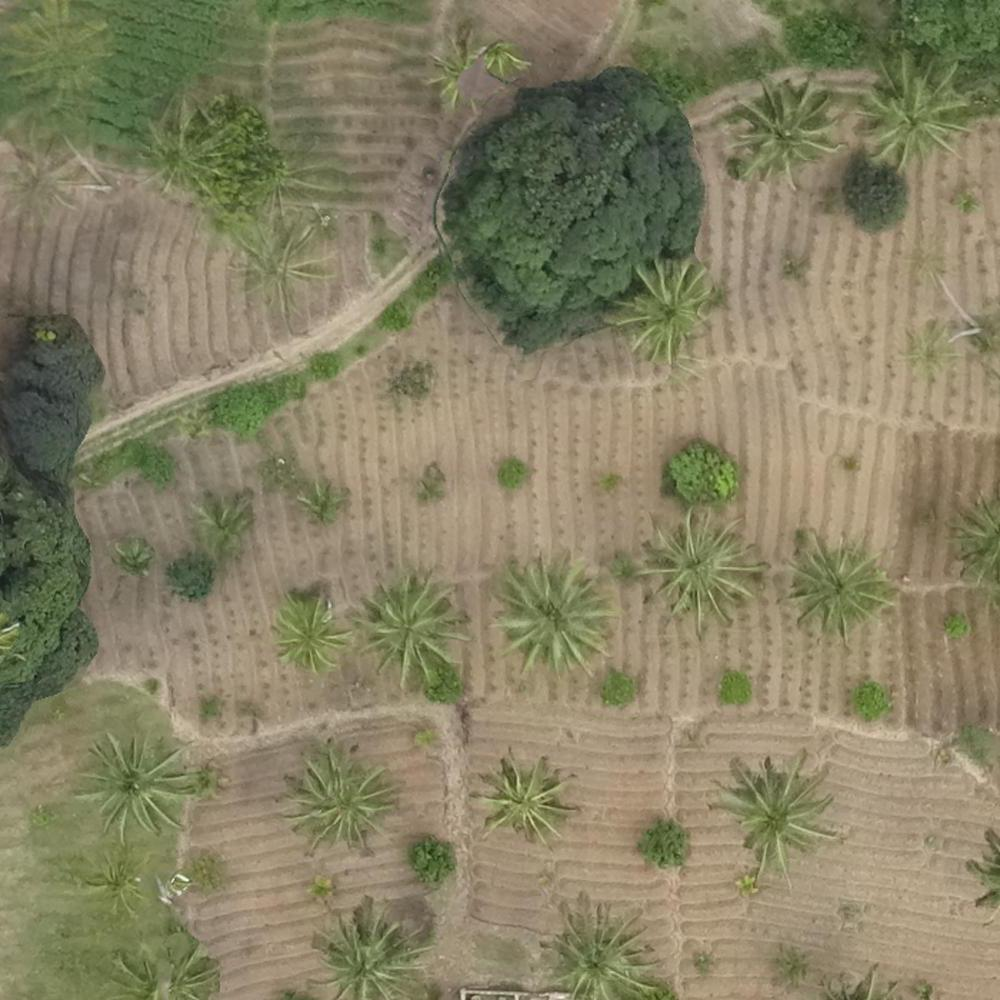Palm: (638, 514, 769, 638), (711, 756, 838, 879), (859, 52, 976, 171), (499, 554, 613, 672), (784, 526, 895, 640), (727, 74, 836, 182), (282, 744, 394, 848), (357, 575, 465, 682), (308, 908, 433, 1000), (547, 901, 662, 1000), (85, 731, 196, 831), (230, 218, 335, 316), (10, 1, 113, 100), (616, 261, 715, 358), (475, 752, 580, 843), (138, 100, 222, 196), (112, 938, 216, 997), (275, 600, 352, 672), (84, 850, 149, 913), (900, 318, 960, 376), (294, 476, 346, 524), (113, 534, 158, 585)
